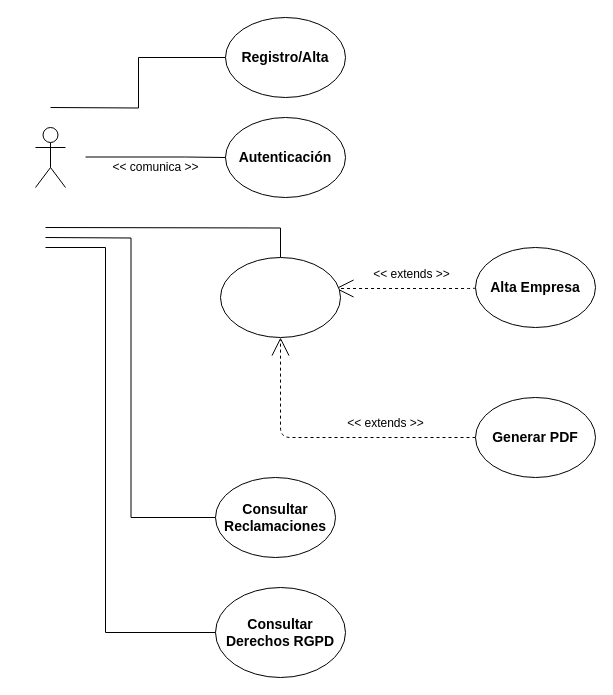
The diagram is 613 pixels wide and 695 high, and some of its shapes have lost their labels. Each missing label, with the box of its shape:
Interesado: (34, 126, 66, 188)
Rellenar Reclamación: (220, 256, 340, 338)
